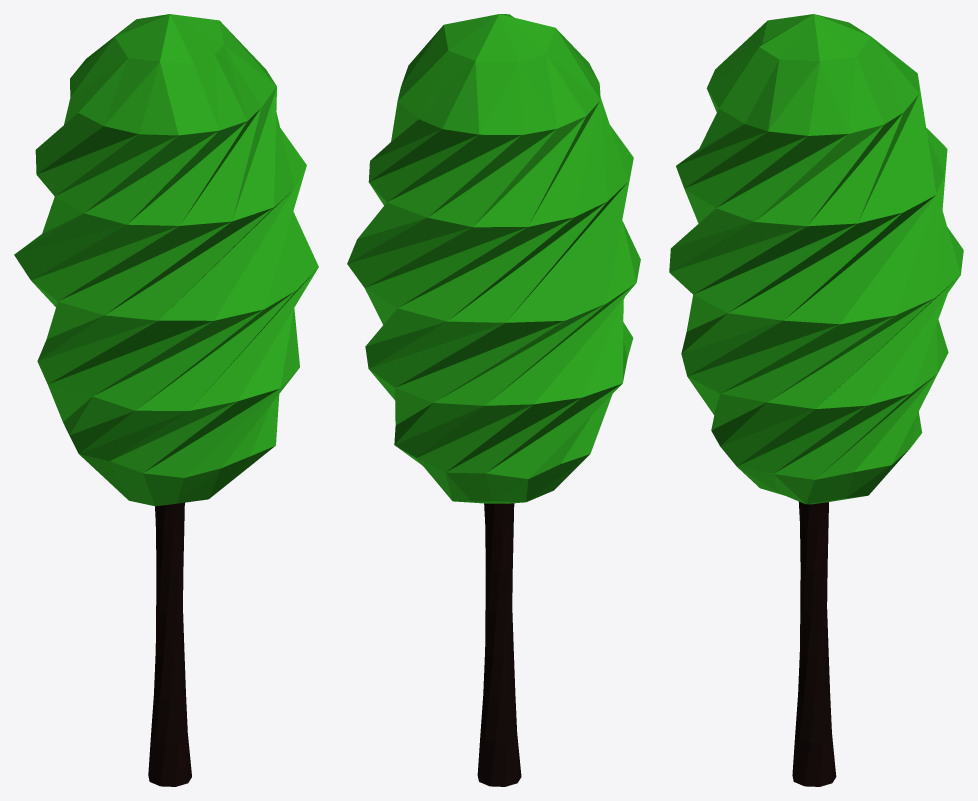
The model's file is treewanker.obj.
3 views of the same model, side by side, from view 1: azimuth 30°, elevation 25°; view 2: azimuth 150°, elevation 25°; view 3: azimuth 270°, elevation 25° (orthographic).
Parts seen in each view (by area): view 1: tree_trunk_trunk1.001_tree_trunk_trunk1.011; view 2: tree_trunk_trunk1.001_tree_trunk_trunk1.011; view 3: tree_trunk_trunk1.001_tree_trunk_trunk1.011.
Boxes of the visible parts, x1=… form: tree_trunk_trunk1.001_tree_trunk_trunk1.011: x1=14, y1=14, x2=318, y2=786; tree_trunk_trunk1.001_tree_trunk_trunk1.011: x1=347, y1=14, x2=640, y2=786; tree_trunk_trunk1.001_tree_trunk_trunk1.011: x1=669, y1=14, x2=963, y2=786.
Size of the model in its own units: 0.9114 by 2.62 by 0.9164.
